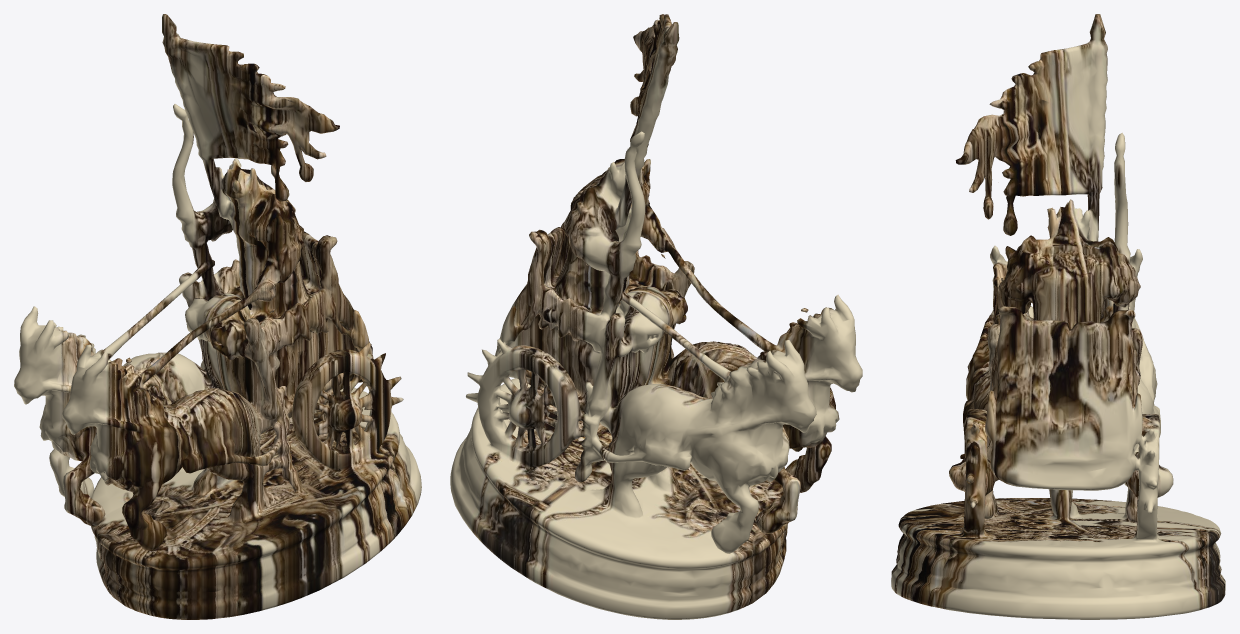
Rendered from ratha.glb.
3 renders of one model, left to right at view 1: azimuth 30°, elevation 25°; view 2: azimuth 150°, elevation 25°; view 3: azimuth 270°, elevation 25°, orthographic. The views are drawn at different scales.
Visible parts, largest first — view 1: geometry_0; view 2: geometry_0; view 3: geometry_0.
Boxes of the visible parts, x1=… form: geometry_0: x1=14, y1=14, x2=421, y2=619; geometry_0: x1=450, y1=14, x2=862, y2=619; geometry_0: x1=891, y1=14, x2=1225, y2=619.
Bounding box in the file's own units: 1.41 × 2.1 × 1.09.
1 material, 1 textured.
